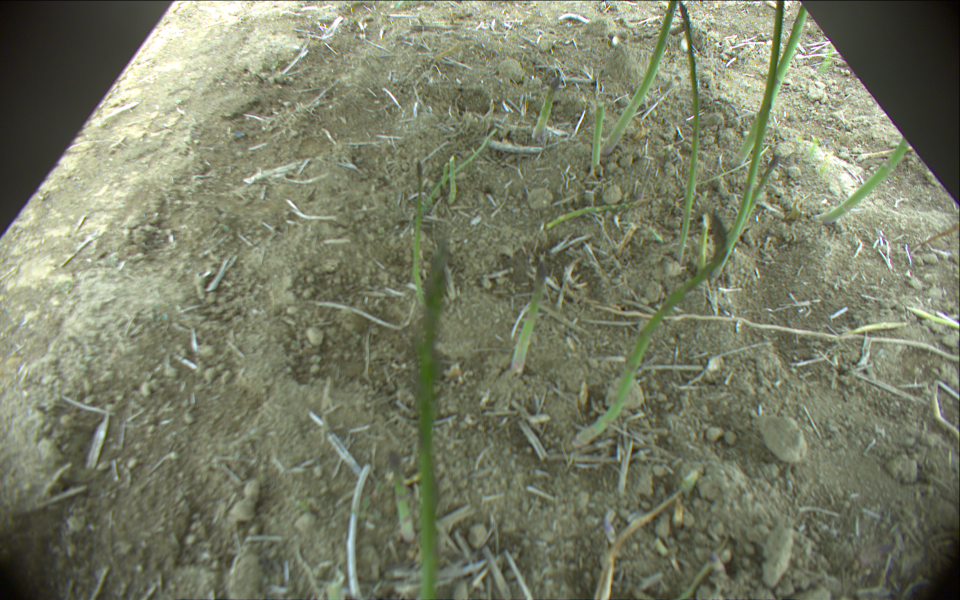aspa: (572, 245, 728, 452), (412, 249, 454, 600), (733, 3, 808, 166), (601, 1, 676, 153), (815, 135, 909, 226), (676, 2, 702, 268), (421, 127, 497, 209), (510, 253, 550, 375), (742, 153, 781, 232), (526, 74, 560, 151), (410, 156, 427, 307), (590, 100, 599, 179), (699, 213, 709, 277), (447, 154, 457, 205)
